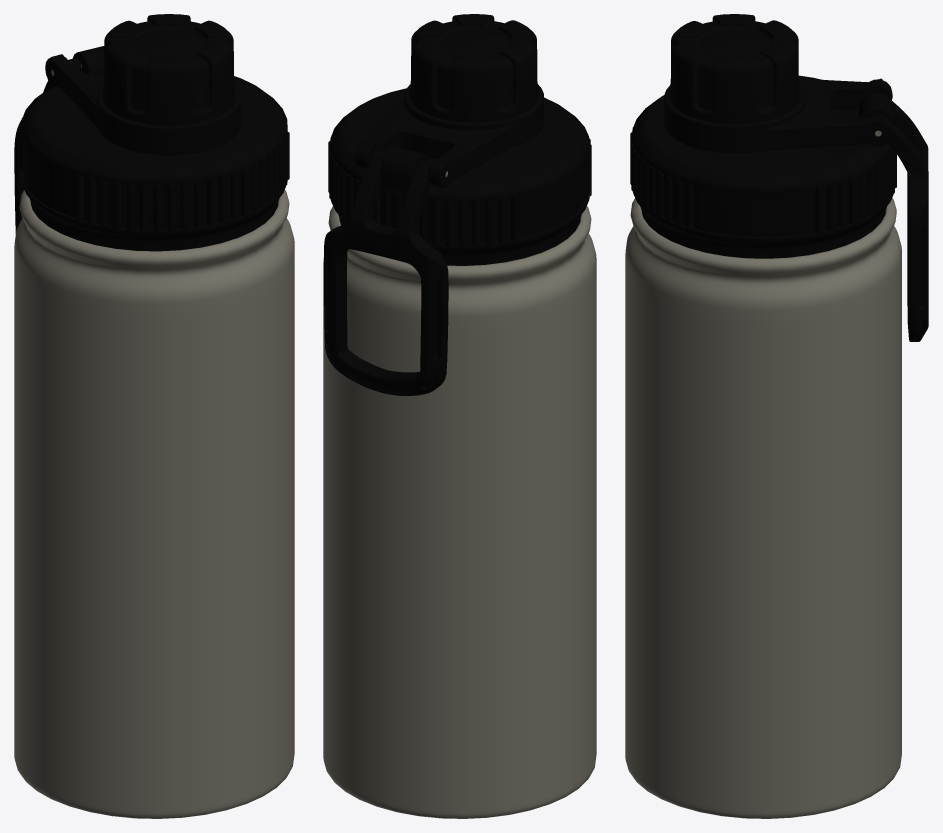
File: Handlebar- v3.glb
The picture shows the model from 3 angles, left to right: view 1: azimuth 30°, elevation 25°; view 2: azimuth 150°, elevation 25°; view 3: azimuth 270°, elevation 25°; orthographic projection. The views are drawn at different scales.
Visible parts, largest first — view 1: Object001, Cylinder002; view 2: Object001, Cylinder002; view 3: Object001, Cylinder002.
Boxes of the visible parts, x1,y1,x2,y2 form: Object001: (14, 190, 294, 818); Cylinder002: (14, 14, 289, 251); Object001: (323, 206, 596, 818); Cylinder002: (324, 14, 591, 395); Object001: (625, 198, 901, 818); Cylinder002: (630, 14, 928, 341).
Bounding box in the file's own units: 0.0745 × 0.2151 × 0.0816.
Materials: 3 (2 with a texture image).
